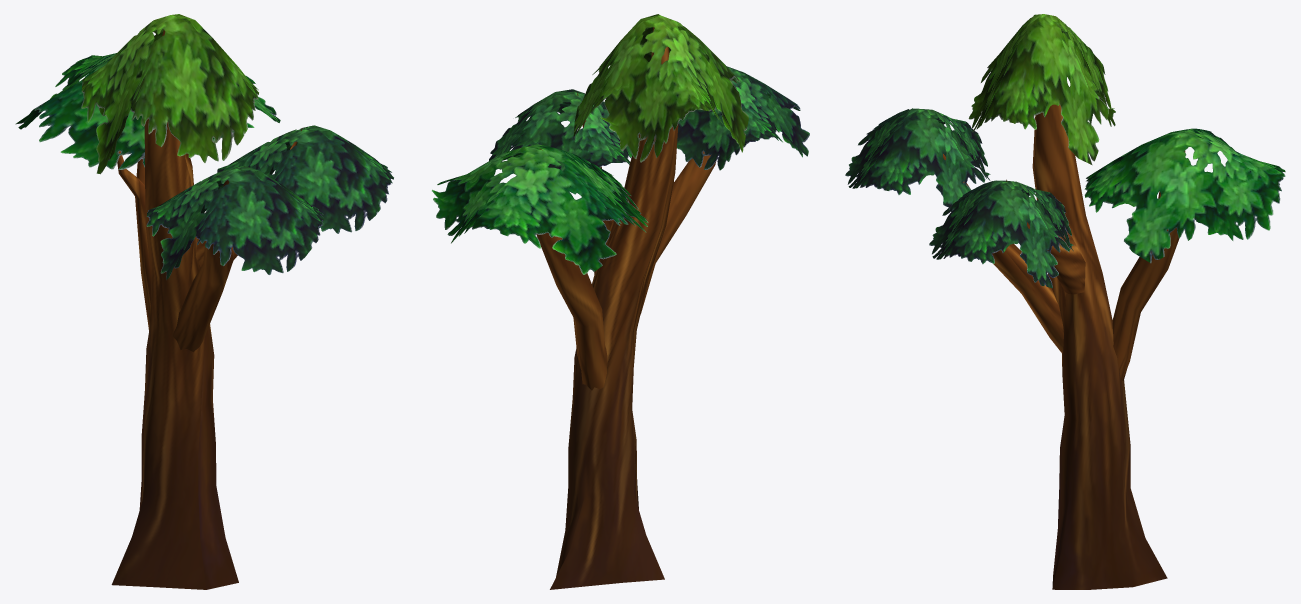
Rendered from tree_5.FBX.
The picture shows the model from 3 angles, left to right: view 1: azimuth 30°, elevation 25°; view 2: azimuth 150°, elevation 25°; view 3: azimuth 270°, elevation 25°; orthographic projection. The views are drawn at different scales.
Visible parts, largest first — view 1: tree_5; view 2: tree_5; view 3: tree_5.
Part boxes in pixels (left/top/right/bottom): tree_5: left=15, top=14, right=393, bottom=589; tree_5: left=432, top=14, right=809, bottom=589; tree_5: left=845, top=14, right=1285, bottom=589.
Bounding box in the file's own units: 134 × 261 × 194.
